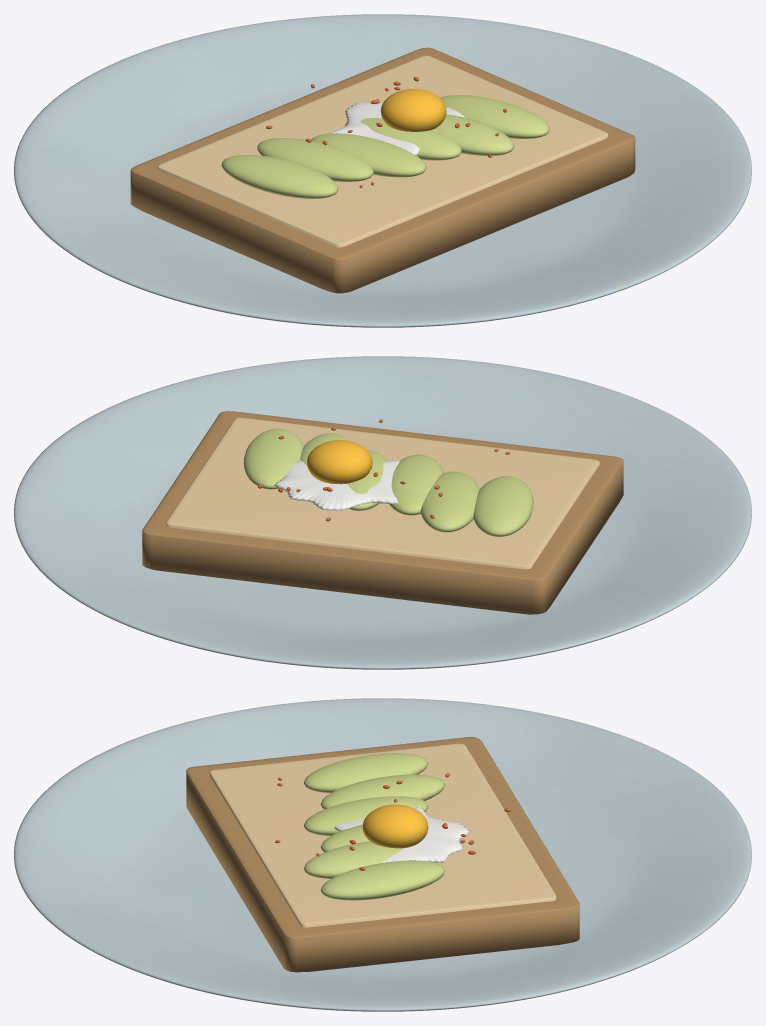
Rendered from tostada-aguacate.glb.
The picture shows the model from 3 angles, top to bottom: view 1: azimuth 30°, elevation 25°; view 2: azimuth 150°, elevation 25°; view 3: azimuth 270°, elevation 25°; orthographic projection.
Parts seen in each view (by area): view 1: tostada-aguacate; view 2: tostada-aguacate; view 3: tostada-aguacate.
Part boxes in pixels (x1,y1,x2,y2): tostada-aguacate: (14, 14, 751, 327); tostada-aguacate: (14, 356, 751, 669); tostada-aguacate: (14, 698, 751, 1011).
Size of the model in its own units: 0.2834 by 0.0382 by 0.2834.
Materials: 1 (1 with a texture image).
